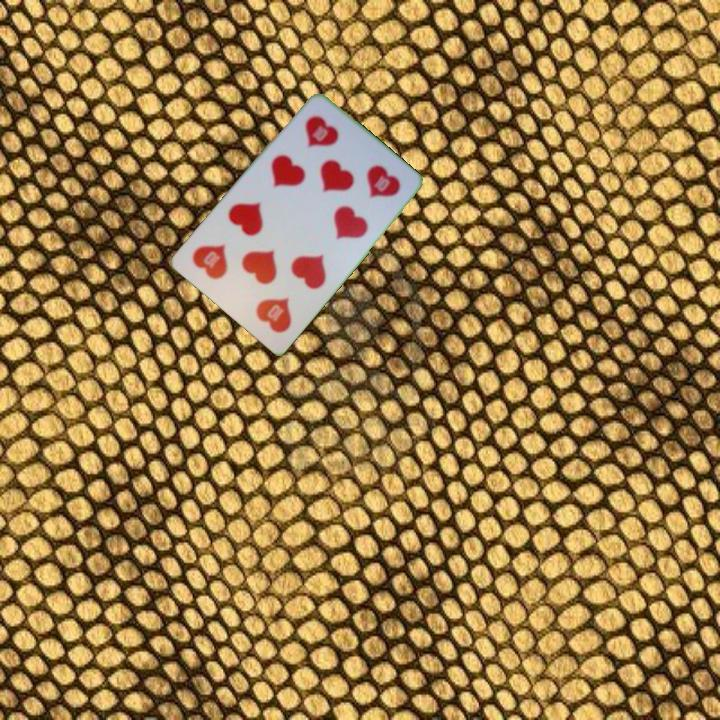h_10.png: (228, 258, 315, 343), (281, 101, 367, 186)
